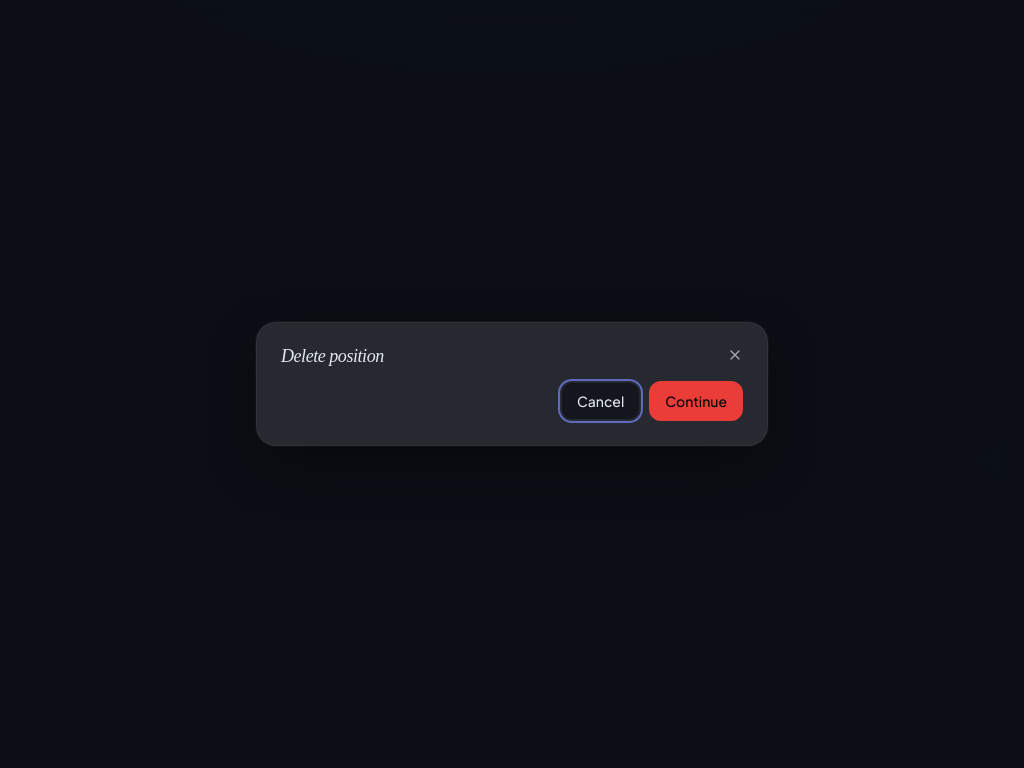
Scenario: ConfirmActionDialog › shows the thrown error without closing the dialog
This screenshot has width=1024, height=768.
Click the button "Continue": (696, 401) 649,381 -> 743,421
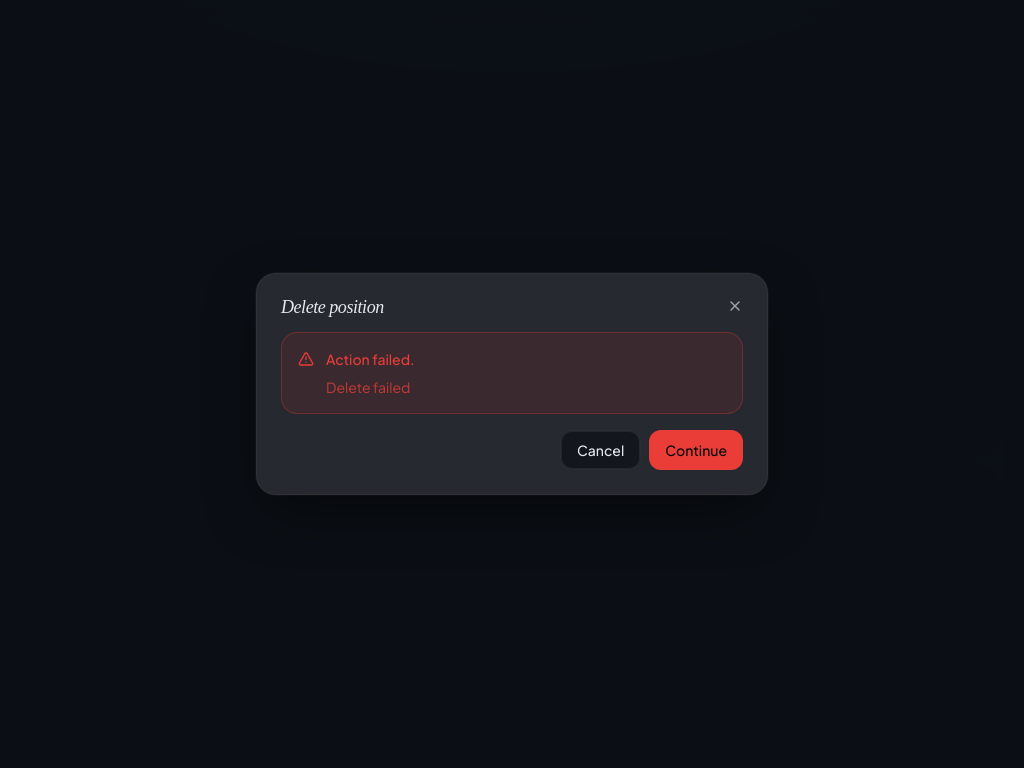
Expected: the text "Action failed." is shown, 326,349 -> 414,369
Expected: the text "Delete failed" is shown, 326,377 -> 414,397
